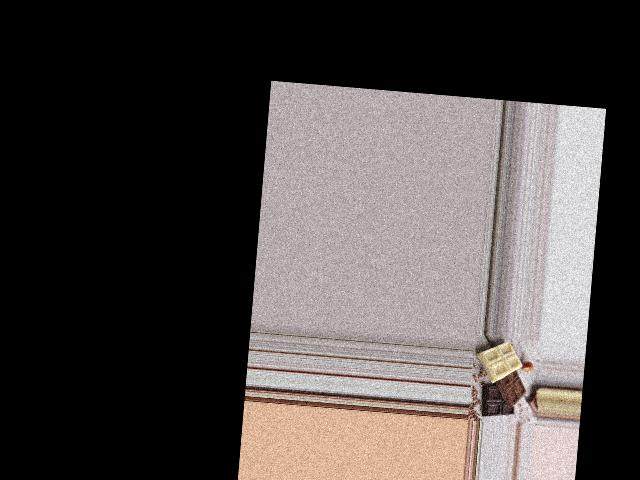chocolate: (476, 339, 530, 423)
